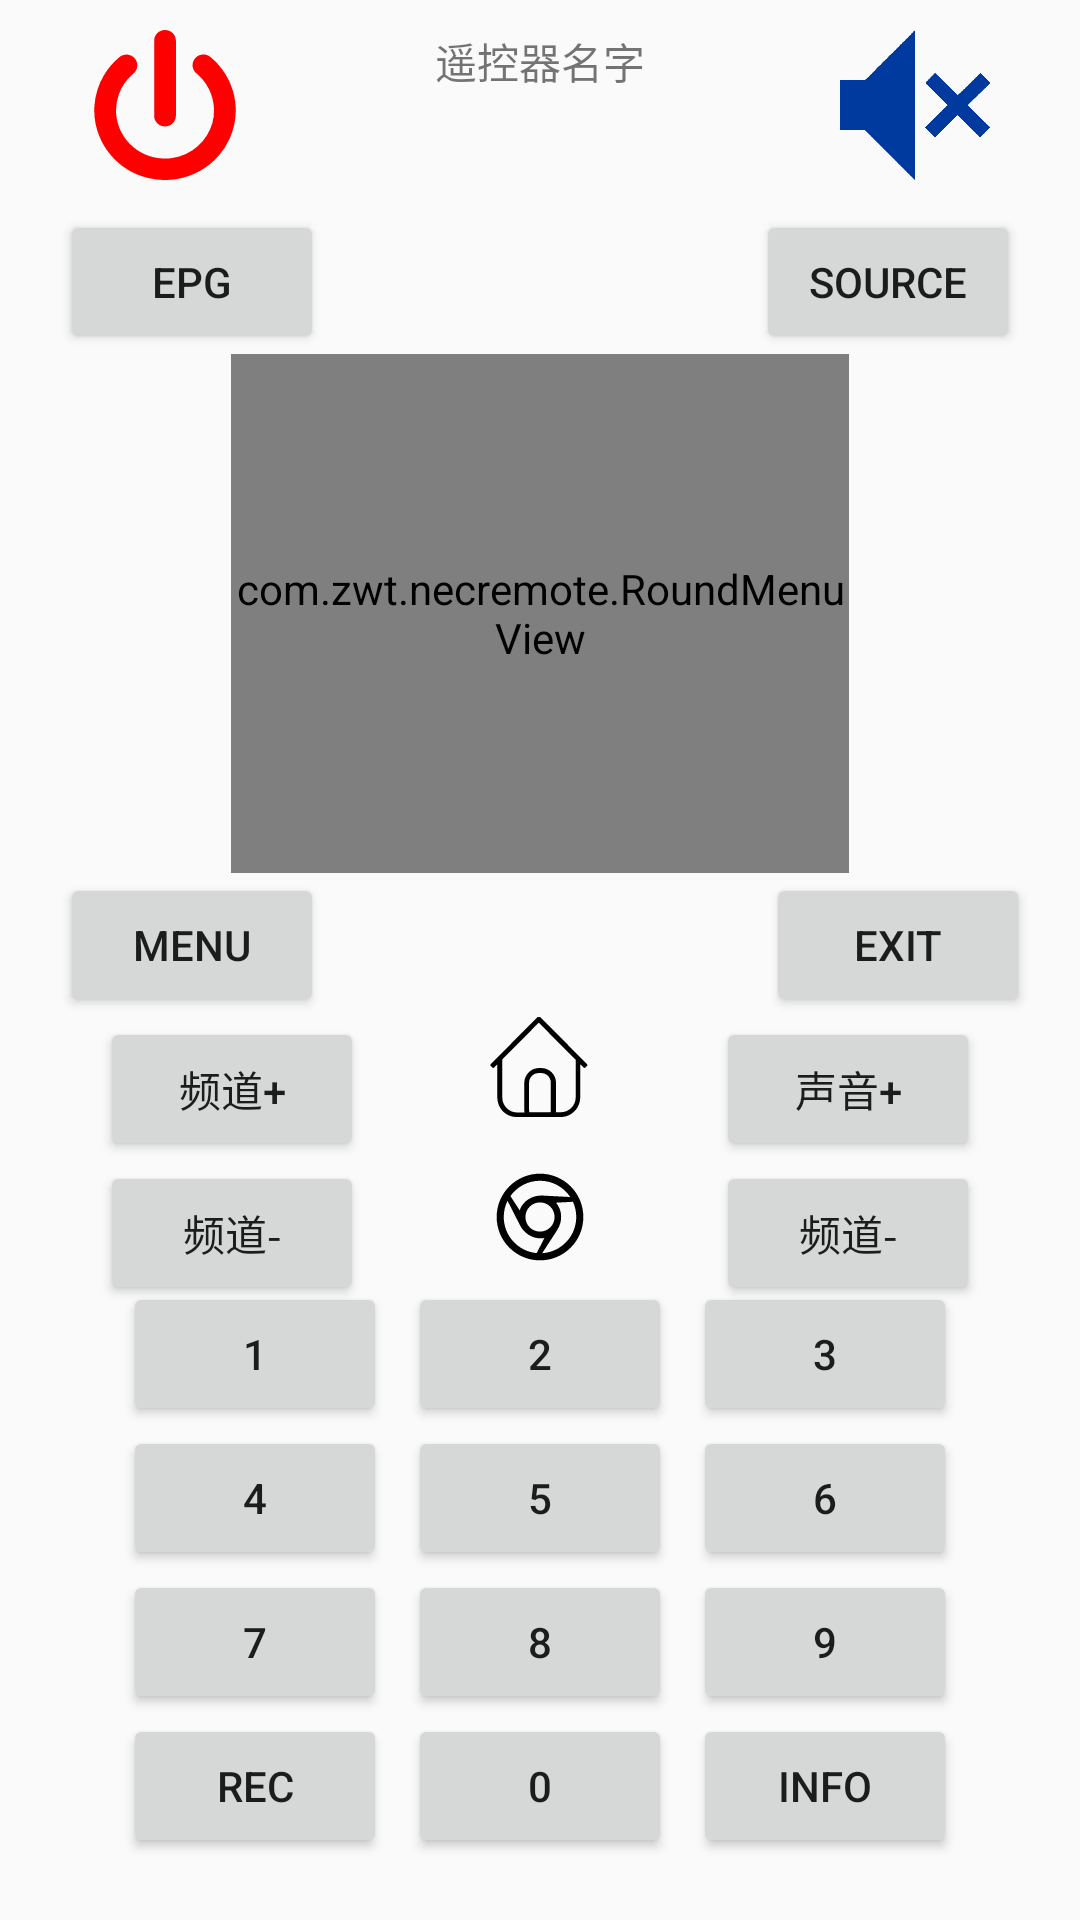

Where icons sit on this 1080 x 1920 app screen, as bbox=(x1, y1, x2, y2):
mute: bbox=(840, 30, 990, 180)
